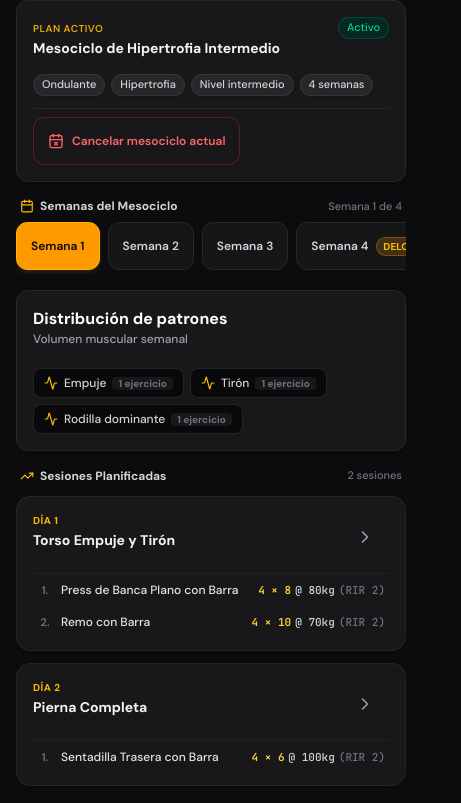
Test: TASK-65: MesocyclePage Dashboard & Deload Notice (RF-02, RF-10, CA-10.2) › should show distinctive Deload banner when viewing the deload week (RF-10, CA-10.2)
Expected: the heading "Mesociclo de Hipertrofia Intermedio" is shown, [33,39,280,58]
// Click Week 4 (Deload)
Click the button "Semana 4 Deload" at (371, 246), box [296,222,445,270]
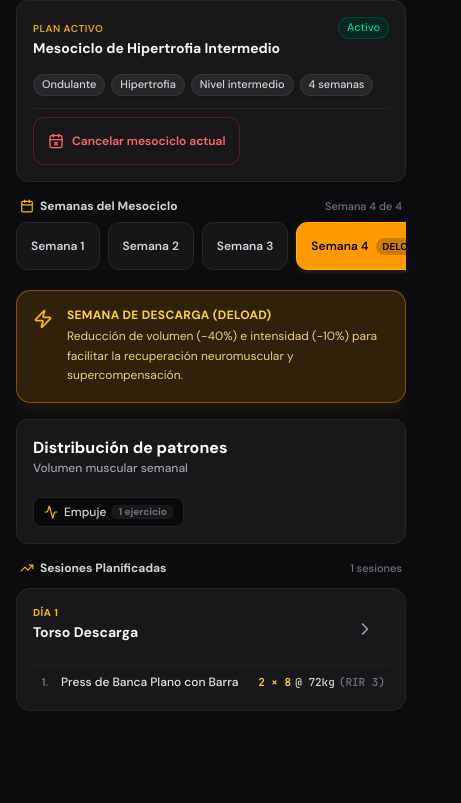
Expected: the element with test id "deload-banner" is shown, [16,290,406,403]
Expected: the element with test id "deload-banner" shows "Semana de Descarga", [67,308,272,324]
Expected: the heading "Torso Descarga" is shown, [33,622,138,642]
